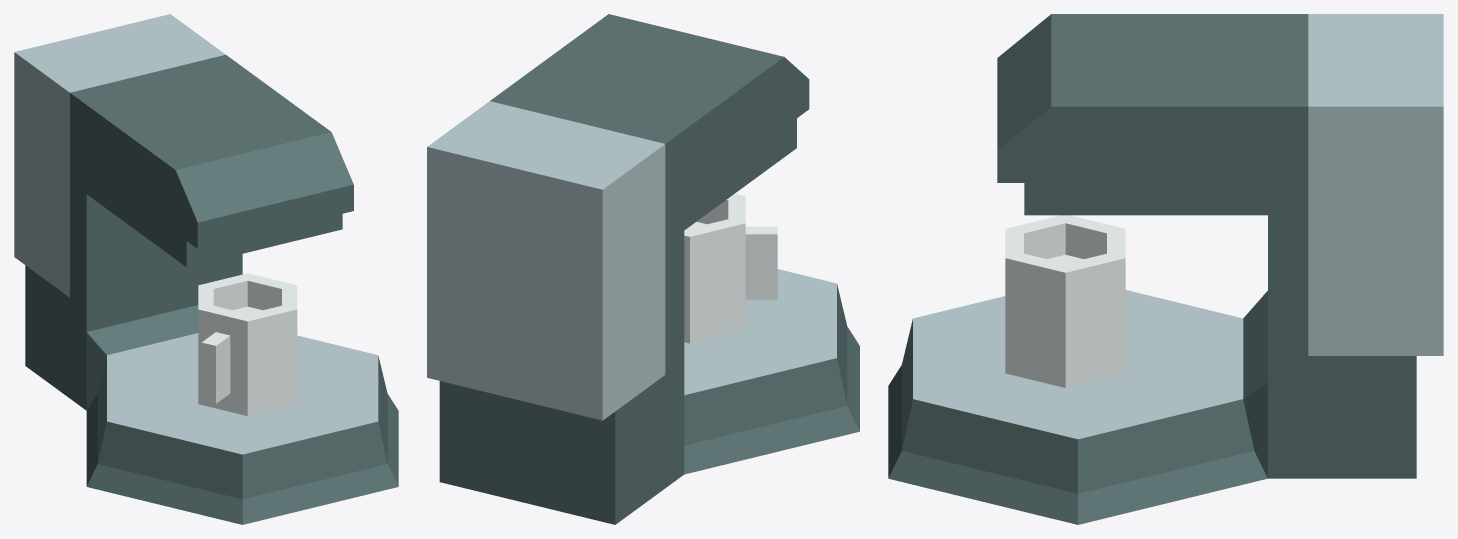
The model's file is Kitchen Coffee Machine.glb.
The picture shows the model from 3 angles, left to right: view 1: azimuth 30°, elevation 25°; view 2: azimuth 150°, elevation 25°; view 3: azimuth 270°, elevation 25°; orthographic projection. The views are drawn at different scales.
Visible parts, largest first — view 1: kitchenCoffeeMachine(Clone), mug; view 2: kitchenCoffeeMachine(Clone), mug; view 3: kitchenCoffeeMachine(Clone), mug.
Boxes of the visible parts, x1,y1,x2,y2 form: kitchenCoffeeMachine(Clone): (14, 14, 398, 524); mug: (198, 273, 297, 416); kitchenCoffeeMachine(Clone): (427, 14, 859, 524); mug: (684, 193, 777, 343); kitchenCoffeeMachine(Clone): (888, 14, 1443, 524); mug: (1005, 215, 1125, 387).
Bounding box in the file's own units: 0.1895 × 0.1775 × 0.2402.
